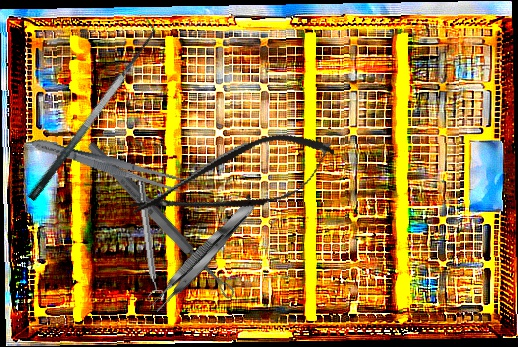Dressing Forceps: (28, 132, 186, 196)
Fixation Ring: (132, 179, 166, 304)
Micro Scissor: (122, 119, 344, 242)
Spatula Surgical: (13, 16, 167, 202)
Surgical Spoon: (84, 139, 238, 302)
Tissue Forceps: (146, 194, 262, 317)
